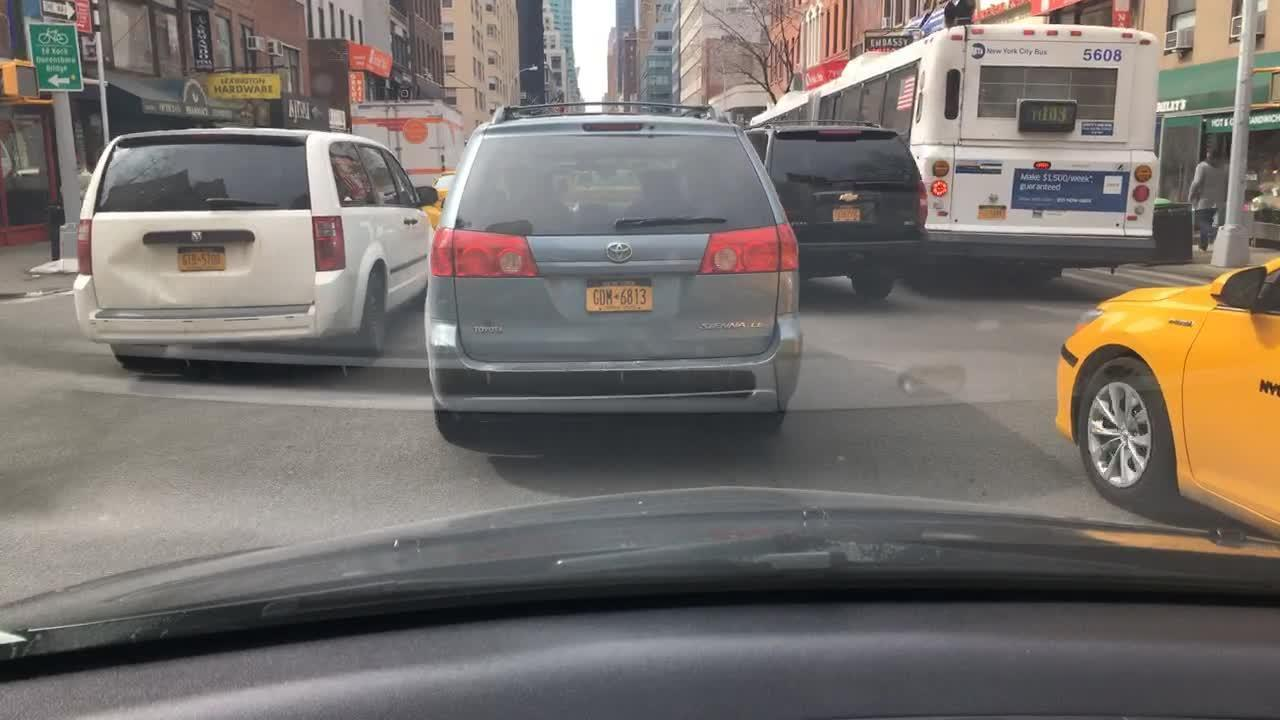Toyota: (598, 236, 640, 266)
chevrolet: (831, 188, 862, 207)
ram: (186, 227, 206, 244)
